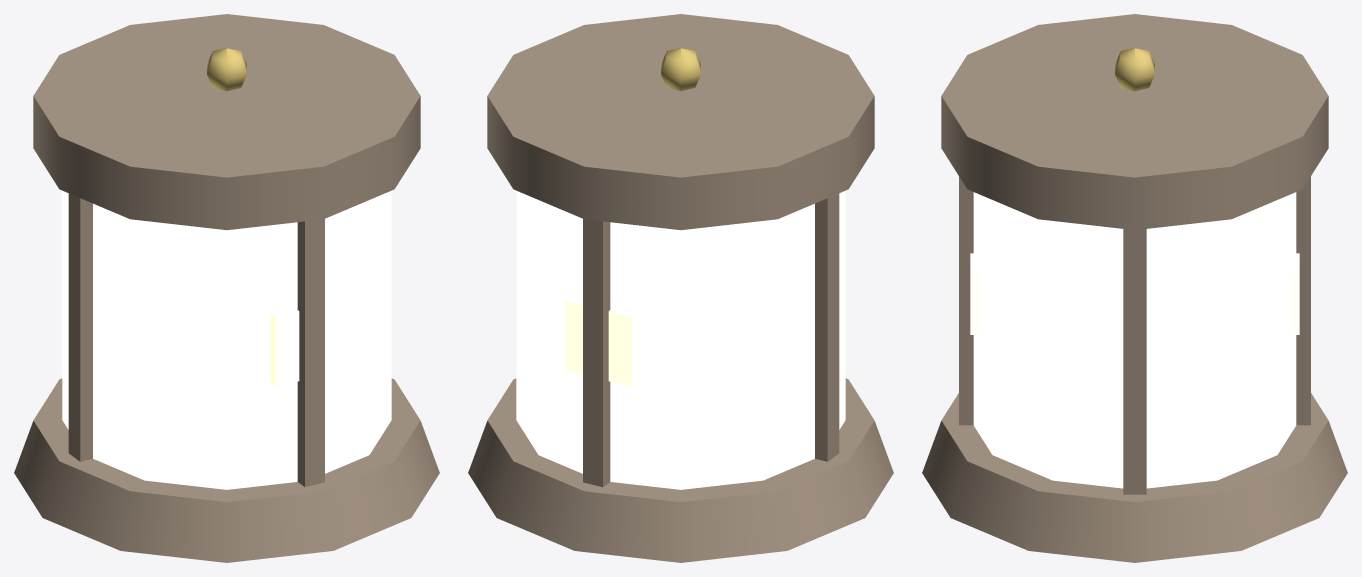
File: Night_lantern.glb
3 renders of one model, left to right at view 1: azimuth 30°, elevation 25°; view 2: azimuth 150°, elevation 25°; view 3: azimuth 270°, elevation 25°, orthographic.
Visible parts, largest first — view 1: Night_lantern; view 2: Night_lantern; view 3: Night_lantern.
Part boxes in pixels (box(x1,y1,x2,y2)): Night_lantern: box(14, 14, 439, 562); Night_lantern: box(468, 14, 893, 562); Night_lantern: box(922, 14, 1347, 562).
Bounding box in the file's own units: 0.22 × 0.242 × 0.22.
